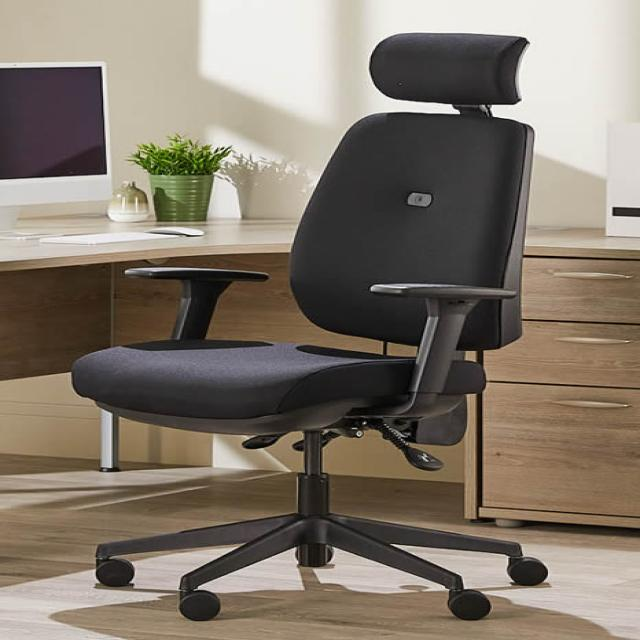chair: (70, 31, 548, 622)
